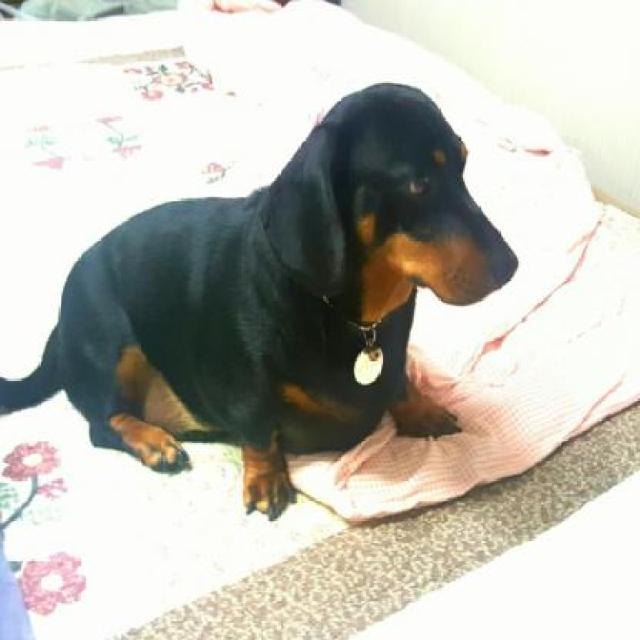Dog: (0, 83, 520, 525)
